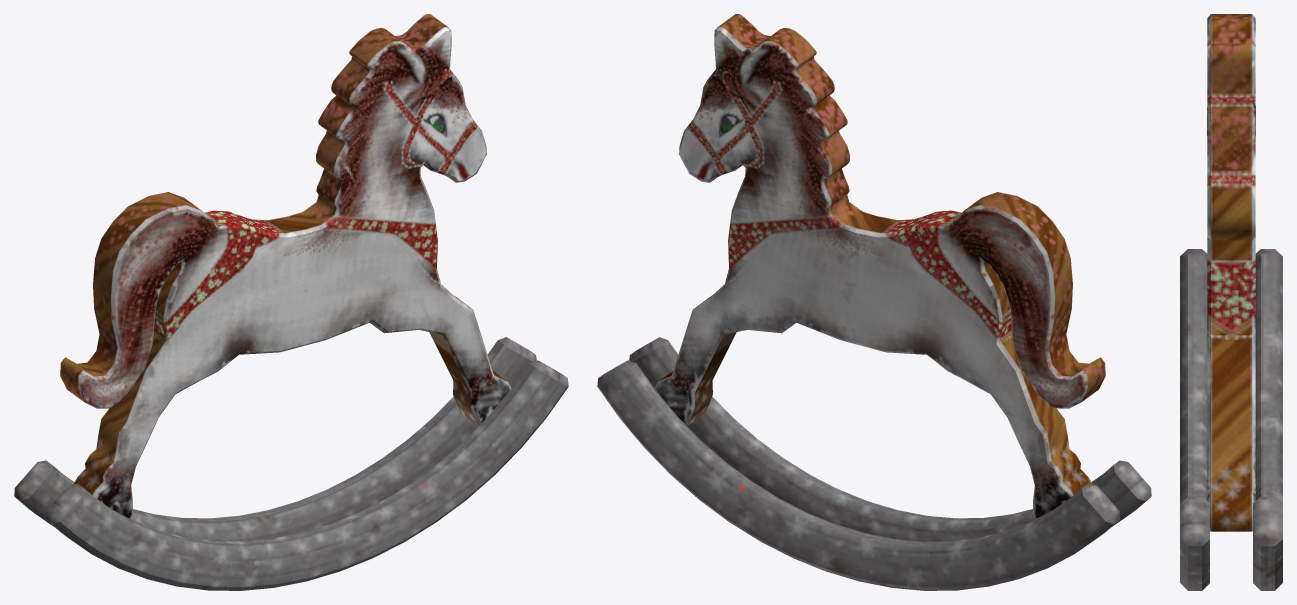
The model's file is christmas_horse.fbx.
3 views of the same model, side by side, from view 1: azimuth 30°, elevation 25°; view 2: azimuth 150°, elevation 25°; view 3: azimuth 270°, elevation 25° (orthographic). The views are drawn at different scales.
Visible parts, largest first — view 1: christmas_horse; view 2: christmas_horse; view 3: christmas_horse.
Boxes of the visible parts, x1,y1,x2,y2 form: christmas_horse: (14,14,568,590); christmas_horse: (597,14,1151,590); christmas_horse: (1180,14,1282,590).
Bounding box in the file's own units: 30.16 × 28.51 × 4.52.
1 material, 1 textured.
